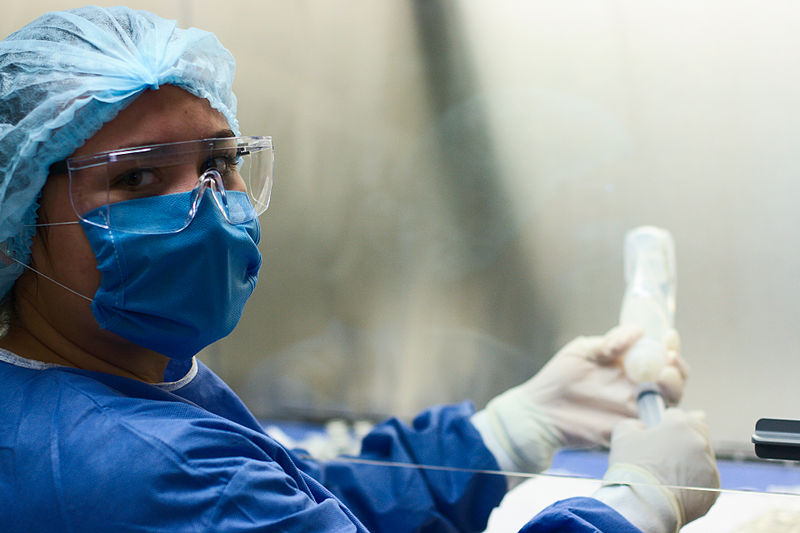Coverall: (1, 352, 502, 530)
Gloves: (479, 322, 689, 472), (607, 408, 724, 529)
Goggles: (65, 133, 279, 234)
with_mask: (79, 158, 271, 351)
